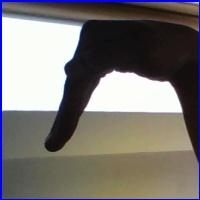A: (40, 17, 194, 174)
